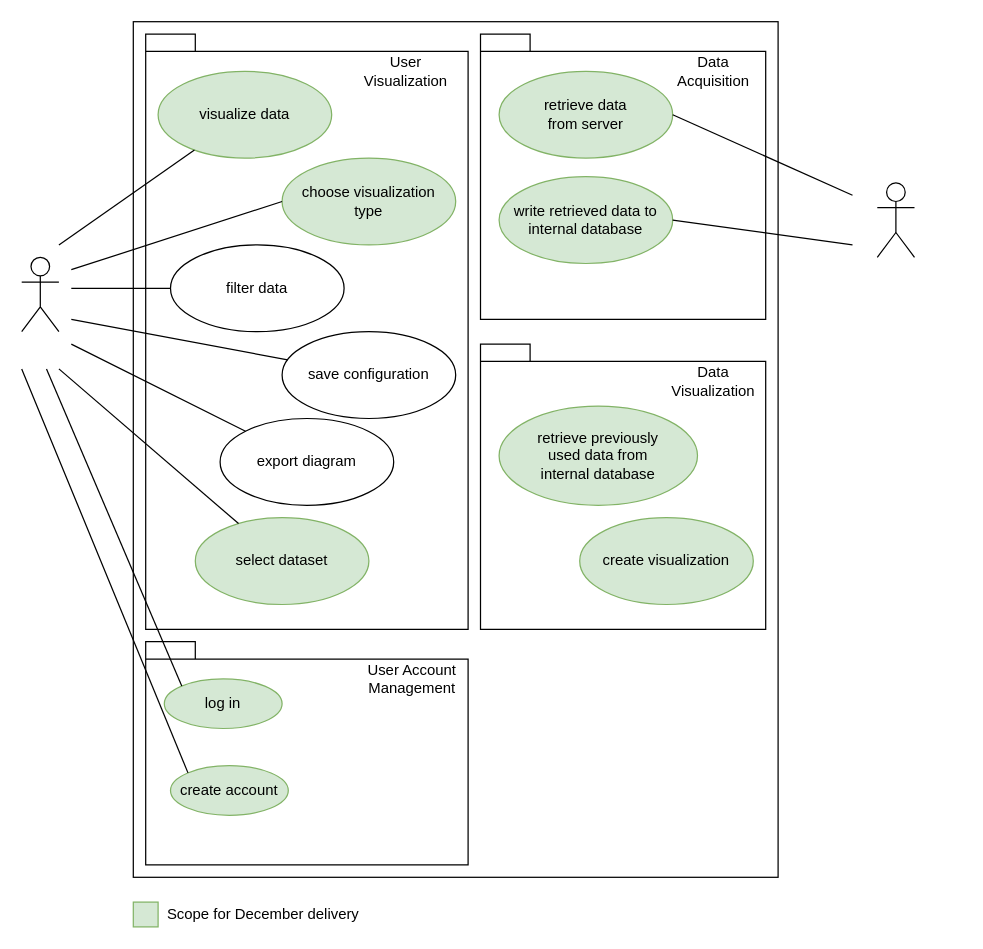
Image size: 983x949. Some labels were removed from this diagram. Here are the shapes that lost their labels. From the top down, the centre of each, then its label:
At point 895,219: "Social Media Server".
At point 39,294: "User".
